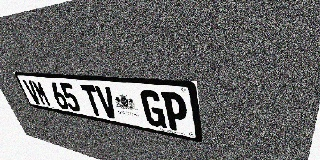5: (59, 83, 82, 113)
6: (48, 82, 70, 110)
G: (139, 89, 167, 129)
M: (31, 80, 52, 107)
P: (161, 91, 189, 133)
T: (80, 84, 104, 117)
V: (94, 86, 119, 120), (22, 79, 43, 105)
